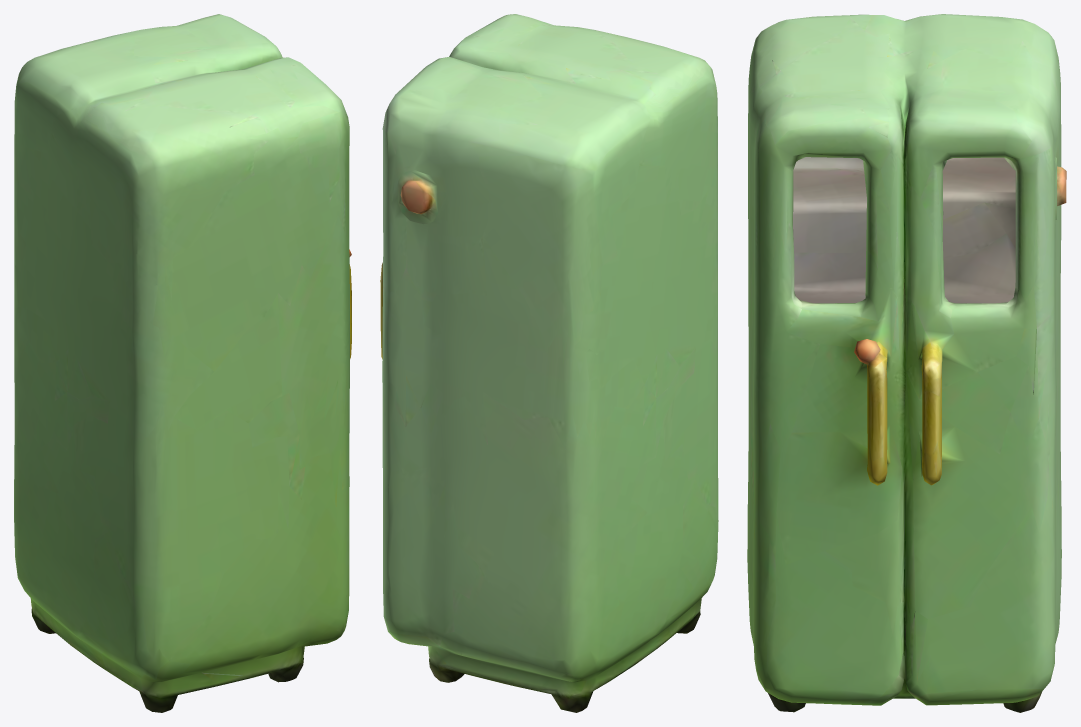
The model's file is fridge2.glb.
3 renders of one model, left to right at view 1: azimuth 30°, elevation 25°; view 2: azimuth 150°, elevation 25°; view 3: azimuth 270°, elevation 25°, orthographic. The views are drawn at different scales.
Parts seen in each view (by area): view 1: tripo_node_1fafda22-f4fa-4c46-9fce-e05b4f00385a; view 2: tripo_node_1fafda22-f4fa-4c46-9fce-e05b4f00385a; view 3: tripo_node_1fafda22-f4fa-4c46-9fce-e05b4f00385a.
Boxes of the visible parts, left/top/right/bottom form: tripo_node_1fafda22-f4fa-4c46-9fce-e05b4f00385a: left=14, top=14, right=351, bottom=712; tripo_node_1fafda22-f4fa-4c46-9fce-e05b4f00385a: left=380, top=14, right=718, bottom=712; tripo_node_1fafda22-f4fa-4c46-9fce-e05b4f00385a: left=747, top=14, right=1066, bottom=712.
Size of the model in its own units: 0.4827 by 1 by 0.4639.
1 material, 1 textured.
